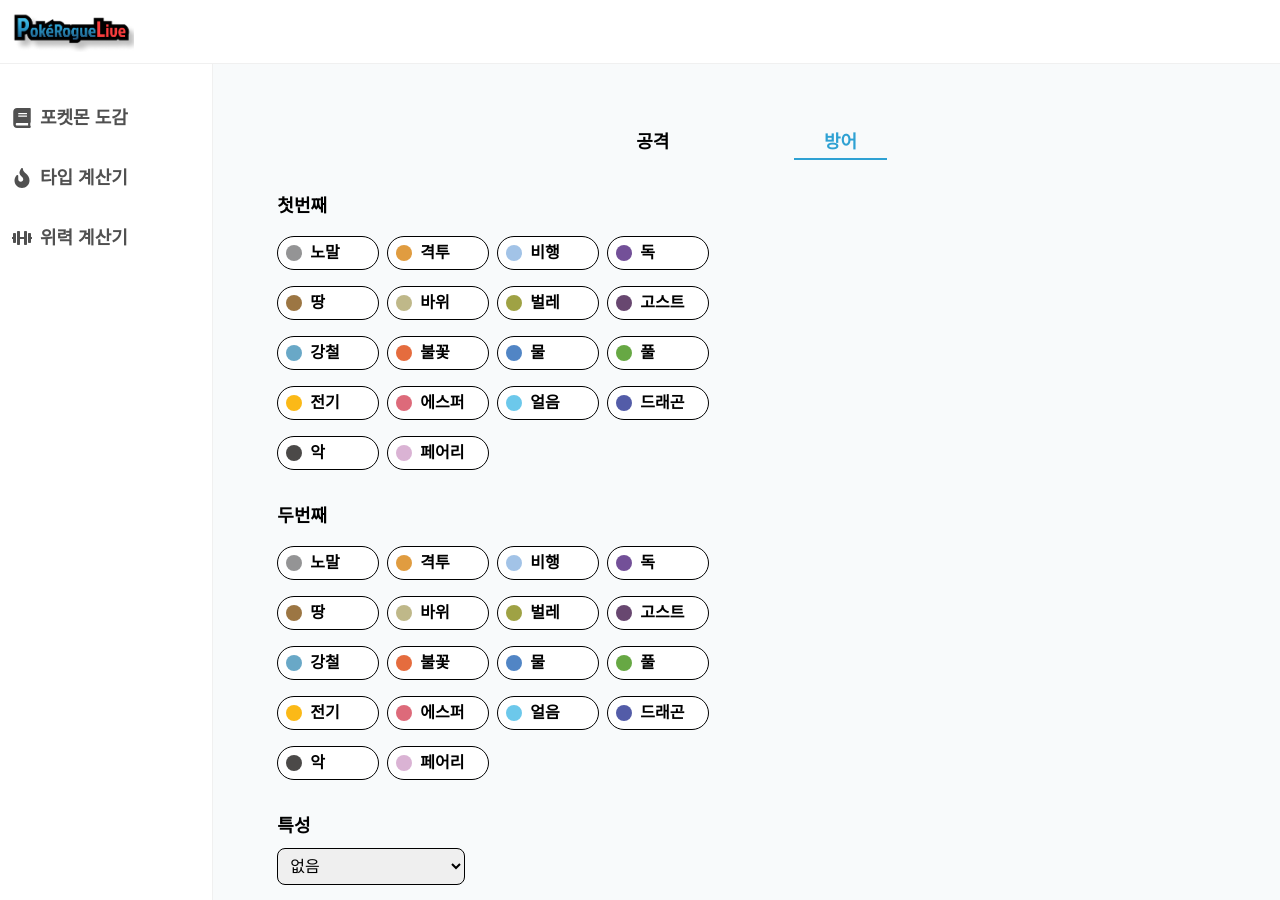
Test case: 타입 계산기 페이지 테스트 › 공격 모드에서 옵션 버튼 클릭 시 옵션이 체크되며 해당 옵션을 포함해서 계산 된 데미지 맵을 렌더링합니다.
Click the button "공격" at (653, 144), box 559,128 -> 747,160
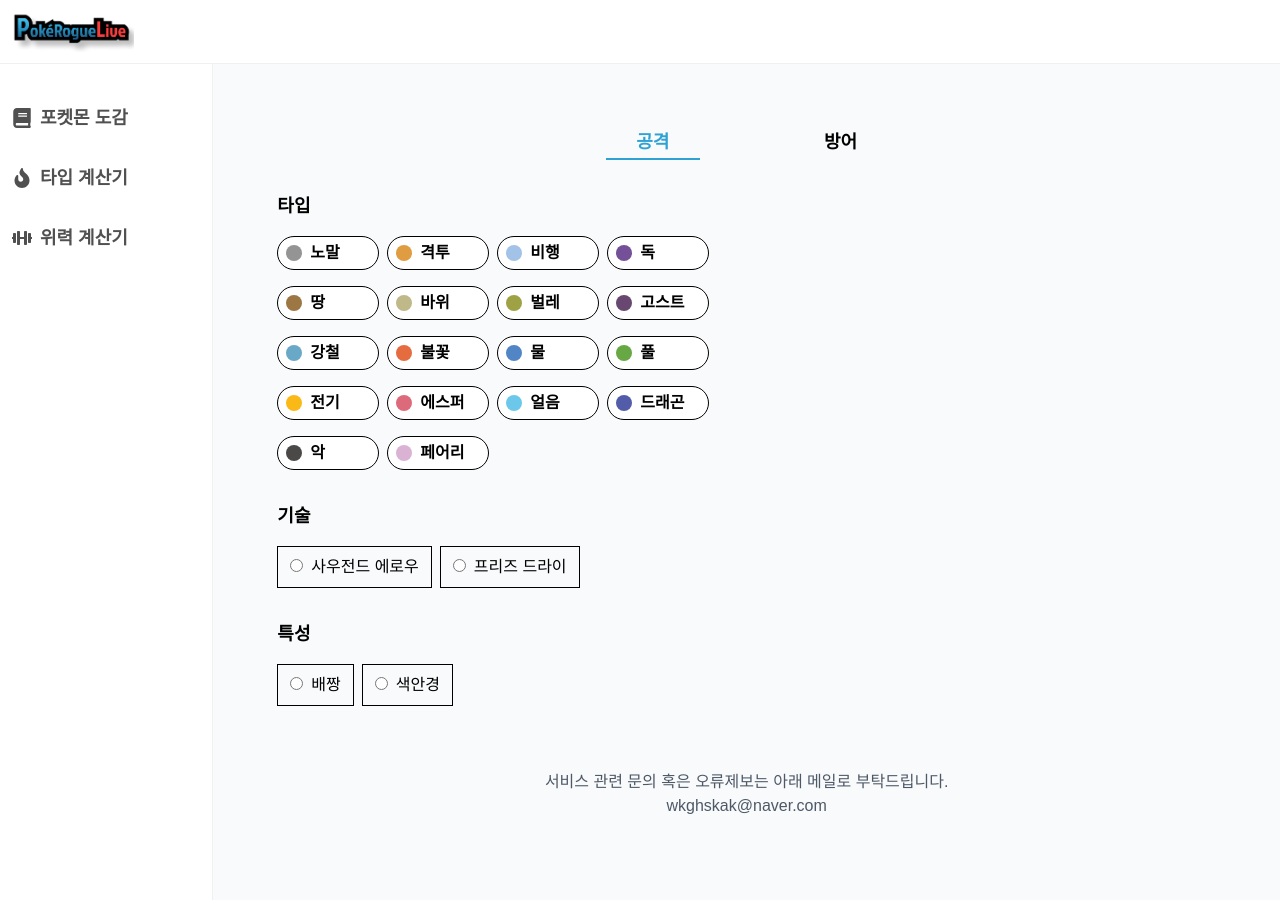
Click the button "격투" at (438, 253), box 387,236 -> 489,270
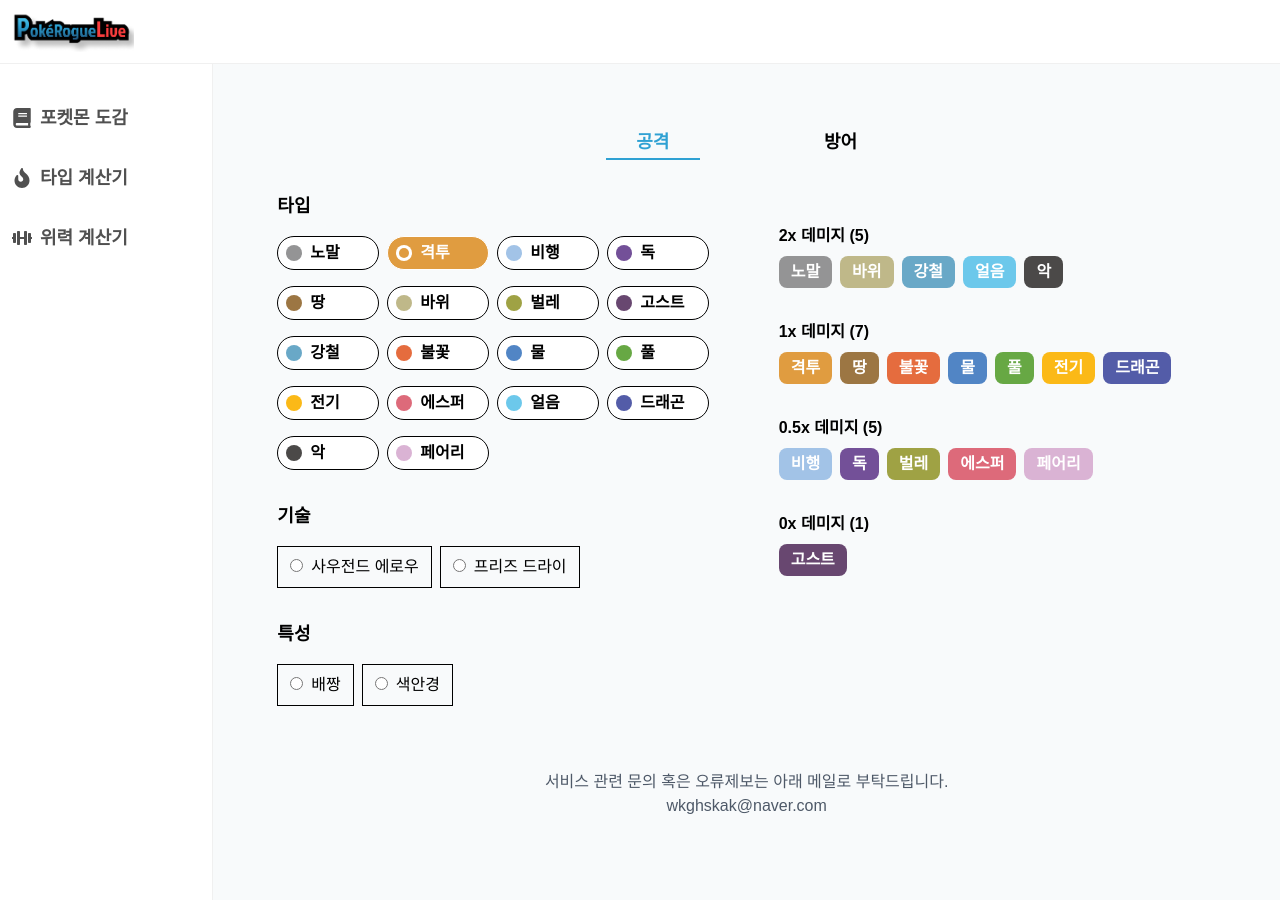
Click the radio button named "move" at (297, 566), box 290,559 -> 303,572
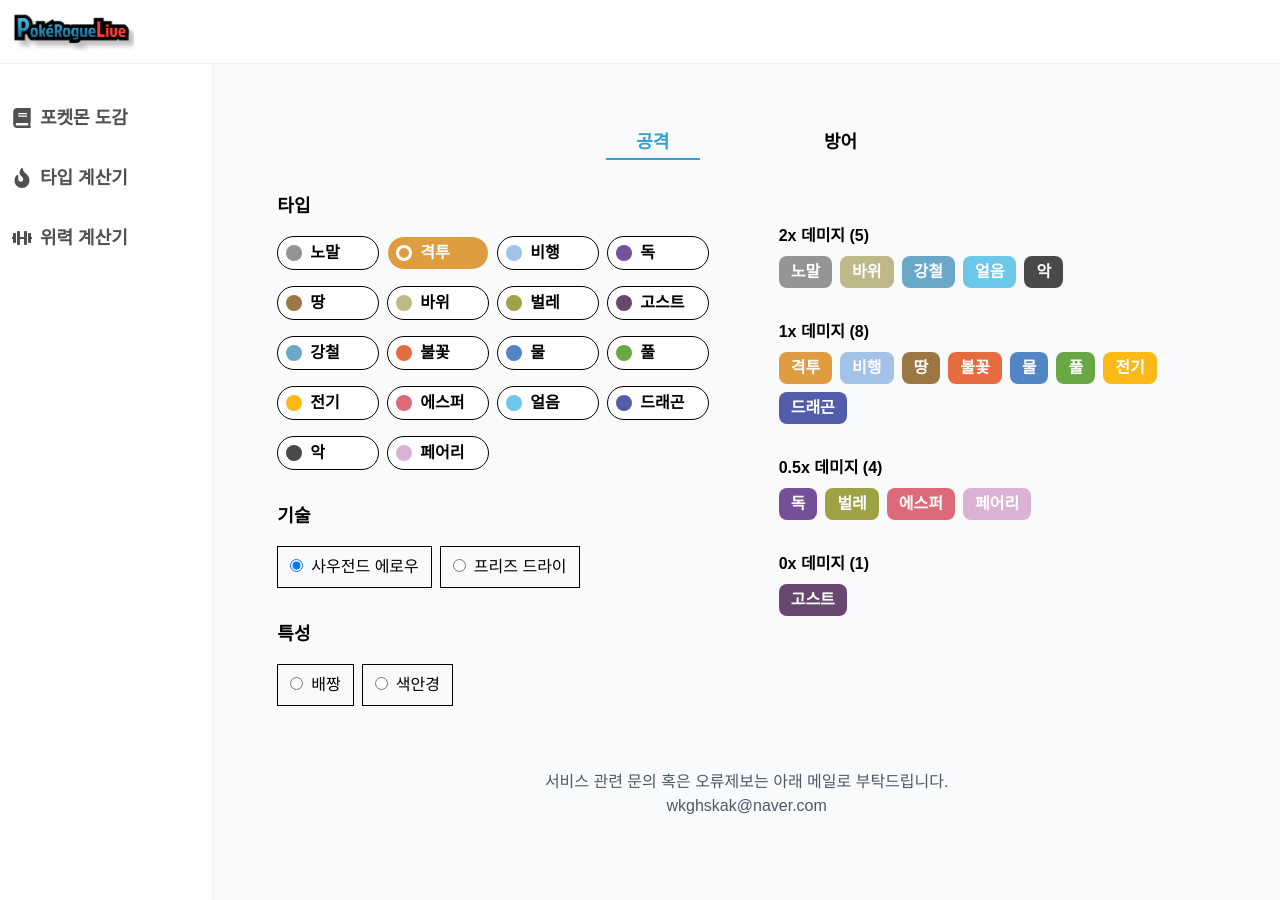
Result: the radio button named "move" is checked at 290,559 -> 303,572
Result: the text with class "type-attack-result" reads "1x 데미지 (8)" at 779,323 -> 869,340
